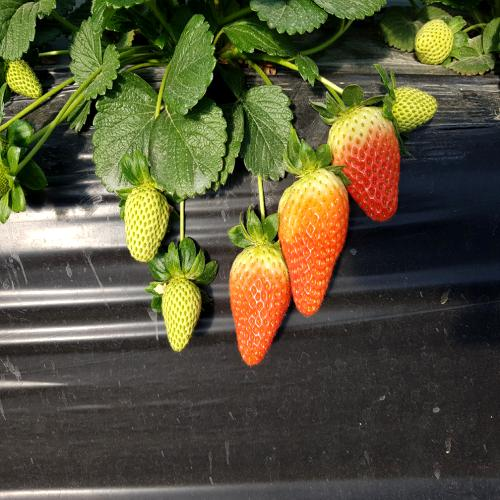ripe: (279, 161, 350, 315), (324, 107, 403, 234), (232, 231, 296, 376)
unripe: (153, 265, 207, 355), (124, 183, 172, 264), (388, 82, 442, 134), (417, 11, 457, 62)
